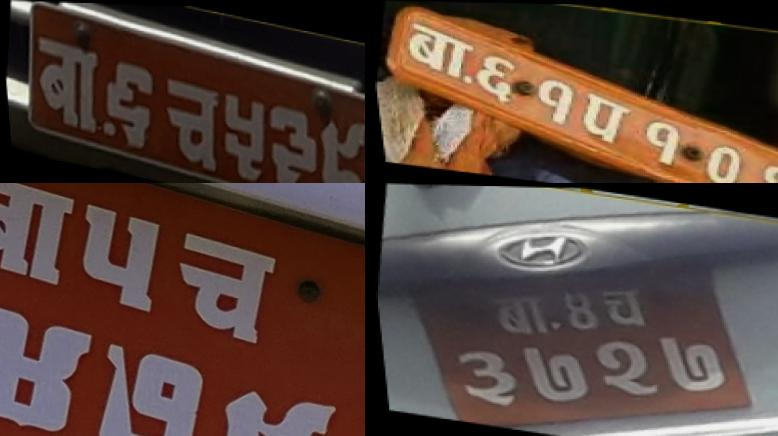0: (694, 137, 744, 183)
1: (626, 113, 686, 173), (525, 72, 584, 125)
2: (582, 335, 666, 408), (744, 155, 778, 183)
3: (437, 337, 526, 417), (258, 102, 321, 183)
4: (0, 284, 108, 436), (553, 285, 603, 336)
5: (58, 189, 176, 324), (211, 90, 271, 181)
6: (96, 54, 158, 144), (466, 48, 524, 102)
7: (74, 325, 213, 436), (645, 322, 743, 398), (509, 343, 594, 411)
9: (190, 364, 346, 436), (308, 111, 365, 183)
ba: (0, 183, 85, 290), (24, 35, 104, 133), (392, 21, 480, 85), (479, 287, 550, 340)
cha: (155, 214, 289, 355), (151, 75, 224, 168), (589, 279, 658, 340)
pa: (569, 90, 638, 148)
